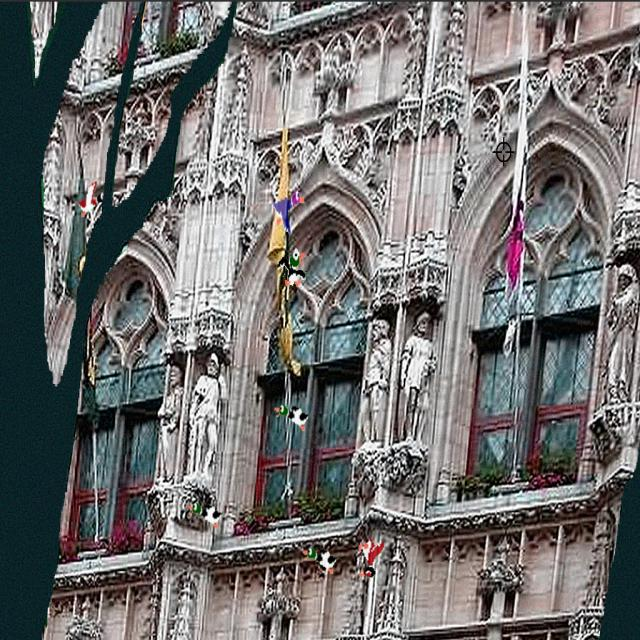duck: (184, 488, 230, 536), (271, 397, 314, 441), (301, 536, 341, 578), (77, 174, 106, 223)
falling_duck: (356, 534, 385, 586)
